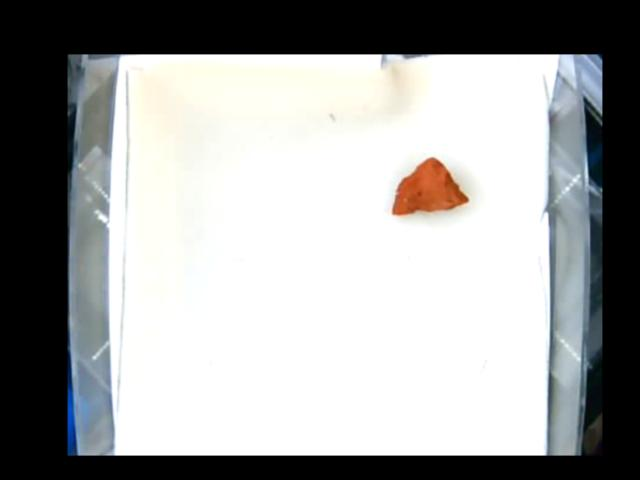Brisk: (390, 153, 468, 216)
